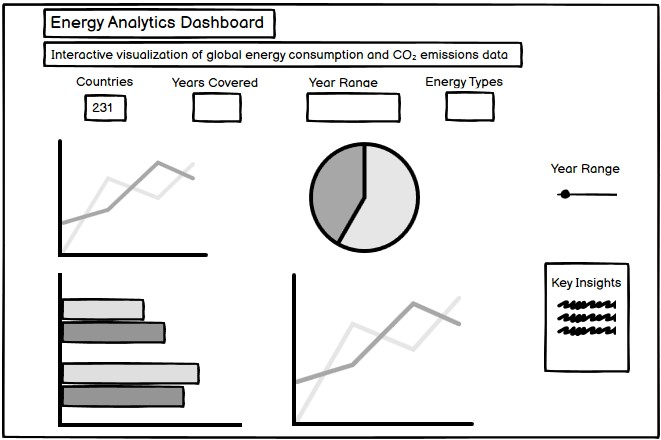

This screenshot's page, from the dashboard's own definition file:
{"tool":"powerbi","page":{"name":"Overview","canvas":[1280,720],"ordinal":0},"visuals":[{"type":"textbox","box":[42.4,0,1237.6,56.5],"z":0},{"type":"textbox","box":[42.4,45.2,962.1,46.6],"z":1000},{"type":"lineChart","title":"Global Energy Trends","fields":{"Category":["cleaned_energy_data.Year"],"Y":["Sum(cleaned_energy_data.Energy_consumption)"],"Series":["cleaned_energy_data.Energy_category"]},"box":[9.9,183.7,429.5,274.1],"z":2000},{"type":"pieChart","title":"Energy Type Distribution","fields":{"Category":["cleaned_energy_data.Energy_category"],"Y":["Sum(cleaned_energy_data.Energy_consumption)"]},"box":[500.1,190.7,474.7,258.5],"z":3000},{"type":"barChart","title":"Top CO₂ Emitters","fields":{"Y":["Sum(cleaned_energy_data.CO2_emission)"],"Category":["cleaned_energy_data.Country"]},"box":[9.9,470.5,429.5,250.1],"z":4000},{"type":"actionButton","box":[0,0,100,40],"z":5000},{"type":"scatterChart","title":"GDP vs Energy Consumption","fields":{"Y":["Sum(cleaned_energy_data.Energy_consumption)"],"X":["cleaned_energy_data.GDP"]},"box":[501.5,469.9,473.3,250.1],"z":6000},{"type":"card","title":"Total Countries","fields":{"Values":["Count(cleaned_energy_data.Country)"]},"box":[42.4,87.6,182.3,84.8],"z":7000},{"type":"textbox","box":[984.7,211.9,285.4,295.3],"z":8000},{"type":"card","title":"Years Covered","fields":{"Values":["Count(cleaned_energy_data.Year)"]},"box":[309.4,84.8,158.2,89],"z":9000},{"type":"card","title":"Energy Types","fields":{"Values":["Count(cleaned_energy_data.Energy_category)"]},"box":[853.3,84.8,163.9,84.8],"z":10000},{"type":"card","fields":{"Values":["Min(cleaned_energy_data.Year)"]},"box":[519.9,101.7,138.5,79.1],"z":11000},{"type":"card","fields":{"Values":["Max(cleaned_energy_data.Year)"]},"box":[658.4,114.4,117.3,53.7],"z":12000},{"type":"textbox","title":"Year Range","box":[510,86.2,281.1,87.6],"z":13000},{"type":"textbox","box":[641.4,115.8,39.6,43.8],"z":14000}]}

Visuals, with their boxes on the page's 1280x720 design canvas (x1, y1, x2, y2). These are canvas units, not pixel positions in the 661x440 screenshot, which may show the page scaled, cropped or inside an application window:
textbox: bbox(42, 0, 1280, 56)
textbox: bbox(42, 45, 1004, 92)
"Global Energy Trends" lineChart: bbox(10, 184, 439, 458)
"Energy Type Distribution" pieChart: bbox(500, 191, 975, 449)
"Top CO₂ Emitters" barChart: bbox(10, 470, 439, 721)
actionButton: bbox(0, 0, 100, 40)
"GDP vs Energy Consumption" scatterChart: bbox(502, 470, 975, 720)
"Total Countries" card: bbox(42, 88, 225, 172)
textbox: bbox(985, 212, 1270, 507)
"Years Covered" card: bbox(309, 85, 468, 174)
"Energy Types" card: bbox(853, 85, 1017, 170)
card - Min(cleaned_energy_data.Year): bbox(520, 102, 658, 181)
card - Max(cleaned_energy_data.Year): bbox(658, 114, 776, 168)
"Year Range" textbox: bbox(510, 86, 791, 174)
textbox: bbox(641, 116, 681, 160)
